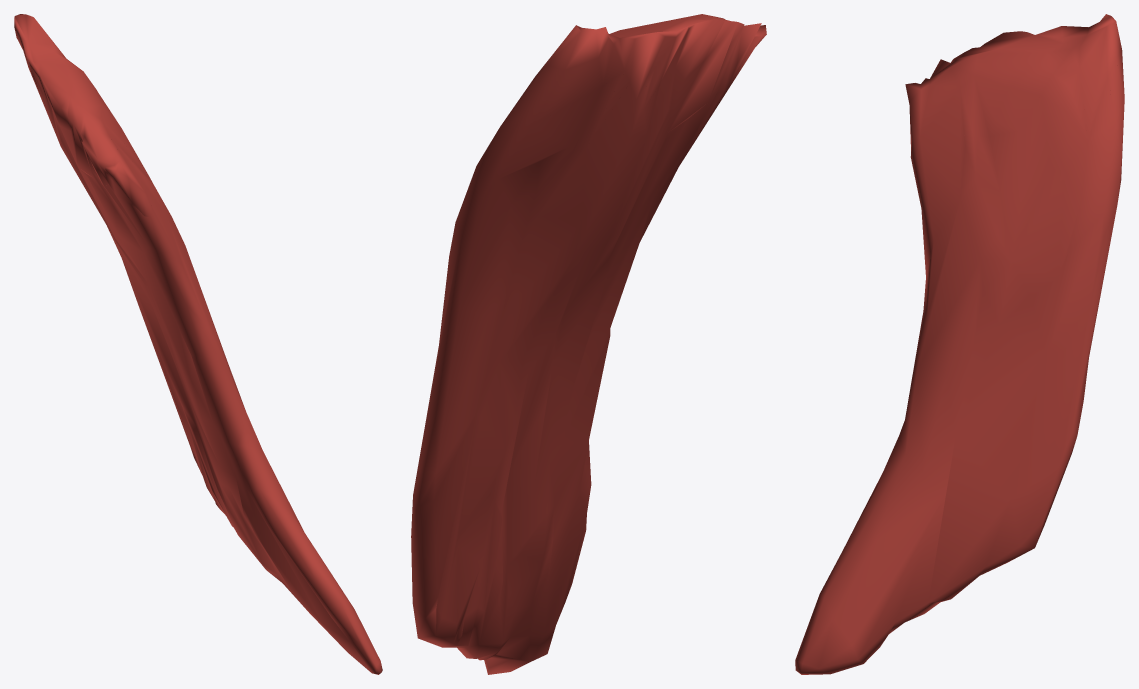
Rendered from musculos-deep-part-of-masseter-r.glb.
The picture shows the model from 3 angles, left to right: view 1: azimuth 30°, elevation 25°; view 2: azimuth 150°, elevation 25°; view 3: azimuth 270°, elevation 25°; orthographic projection. The views are drawn at different scales.
Parts seen in each view (by area): view 1: Deep part of masseter.r; view 2: Deep part of masseter.r; view 3: Deep part of masseter.r.
Part boxes in pixels (box(x1,y1,x2,y2)): Deep part of masseter.r: box(14, 14, 382, 674); Deep part of masseter.r: box(411, 14, 766, 674); Deep part of masseter.r: box(795, 14, 1124, 674).
Size of the model in its own units: 0.027 by 0.0655 by 0.0346.
